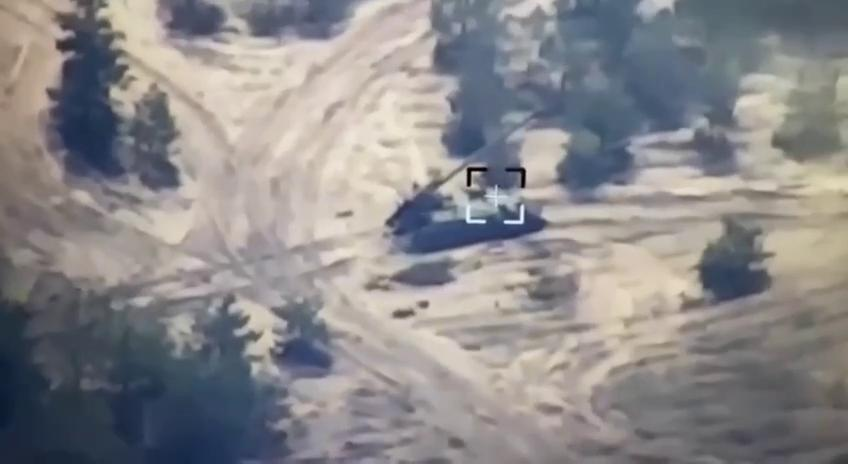tank: (385, 110, 544, 253)
